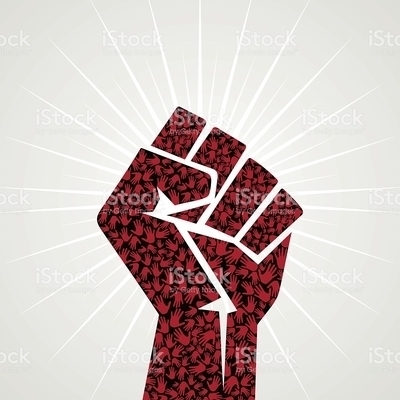closedhandfront: (77, 92, 305, 328)
